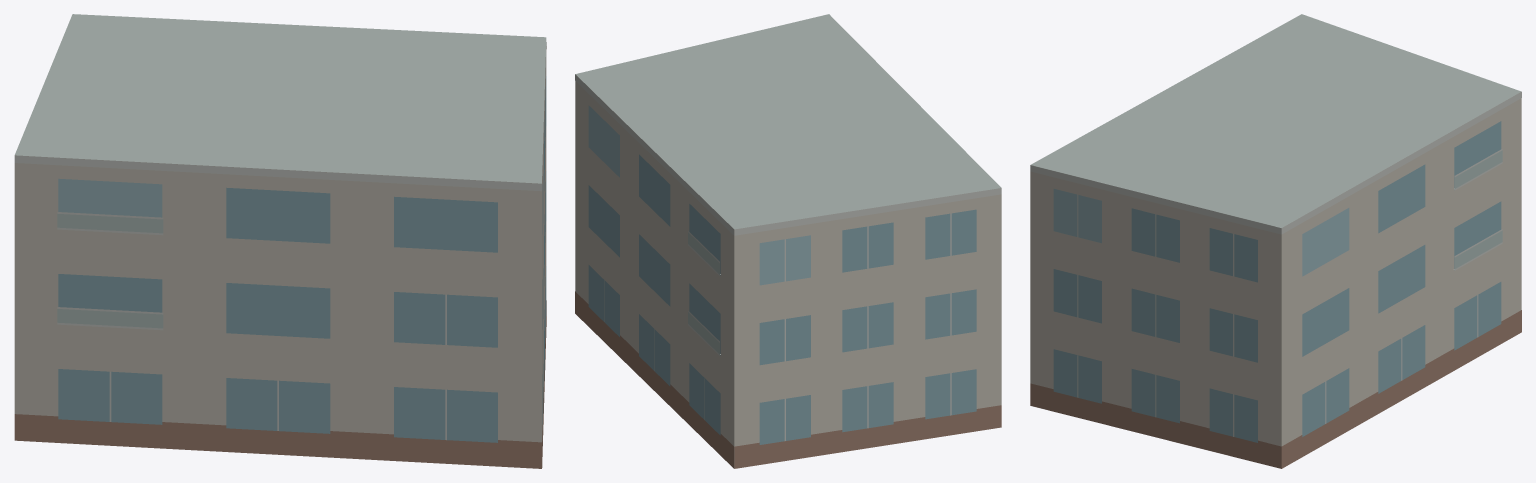
Rendered from survey-upis-32848455.glb.
3 views of the same model, side by side, from view 1: azimuth 30°, elevation 25°; view 2: azimuth 150°, elevation 25°; view 3: azimuth 270°, elevation 25° (orthographic). The views are drawn at different scales.
Parts seen in each view (by area): view 1: survey-upis-32848455.tmp; view 2: survey-upis-32848455.tmp; view 3: survey-upis-32848455.tmp.
Boxes of the visible parts, left/top/right/bottom form: survey-upis-32848455.tmp: left=14, top=14, right=546, bottom=468; survey-upis-32848455.tmp: left=575, top=14, right=1001, bottom=468; survey-upis-32848455.tmp: left=1030, top=14, right=1521, bottom=468.
Bounding box in the file's own units: 17.47 × 9.15 × 16.94.
